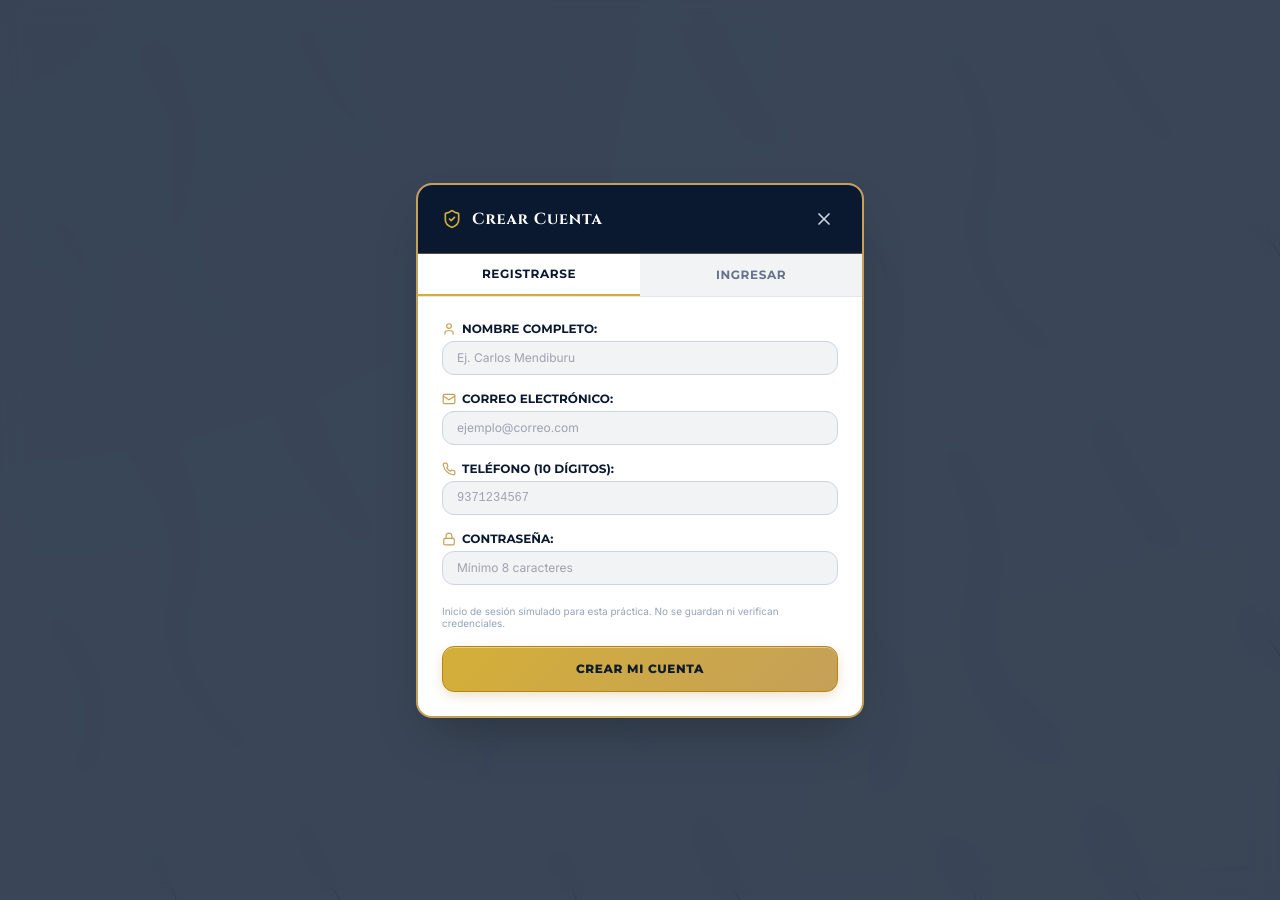
it: AuthModal › asigna el rol admin al correo autorizado luisa.roman@admin.sublimacionesroman.com
Click the button "Ingresar" at (751, 274), box 640,254 -> 862,296
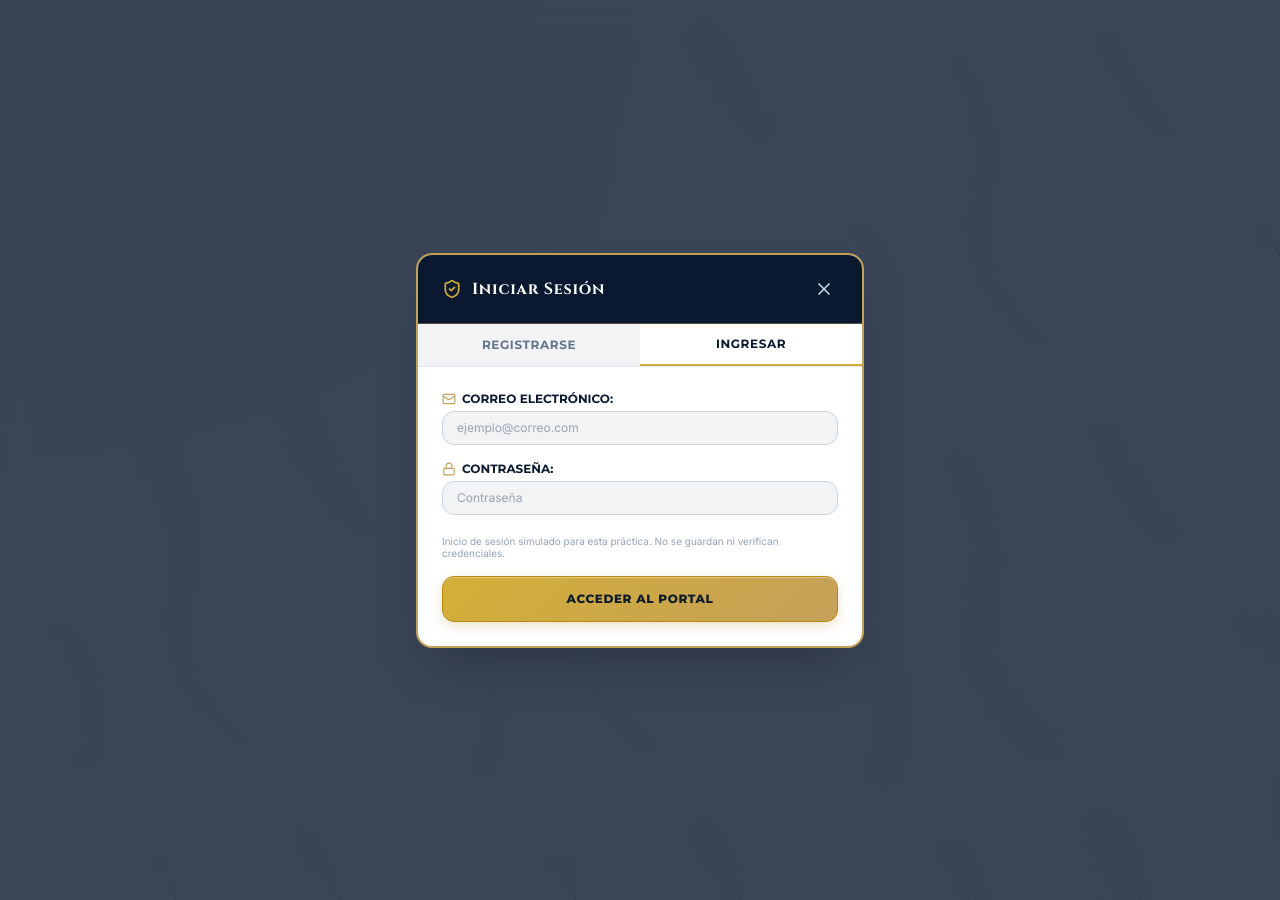
Type "luisa.roman@admin.sublimacionesroman.com" into the field with placeholder "ejemplo@correo.com" at (640, 428), box 442,410 -> 838,444
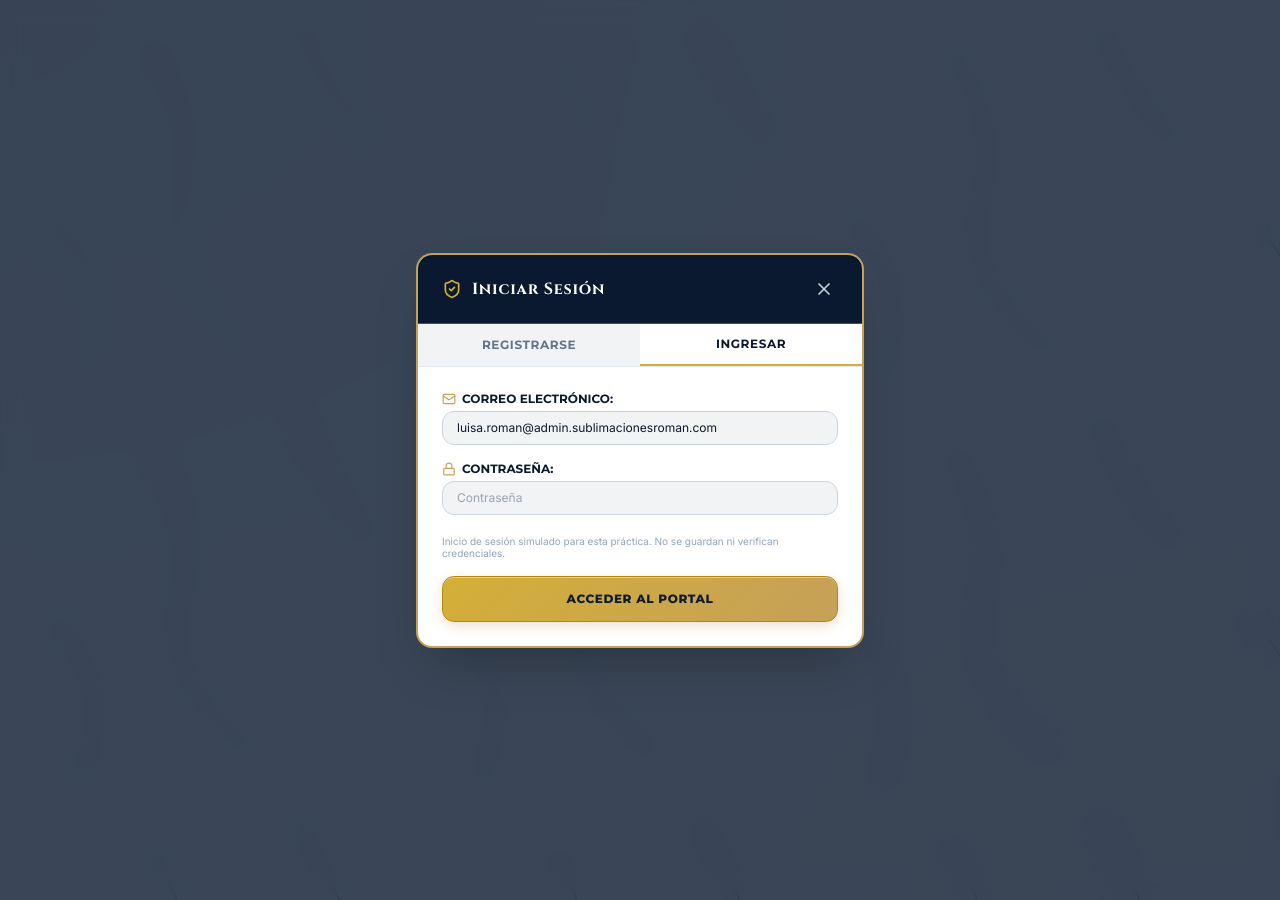
Type "clave-de-prueba" into the password field with placeholder "Contraseña" at (640, 498), box 442,480 -> 838,514
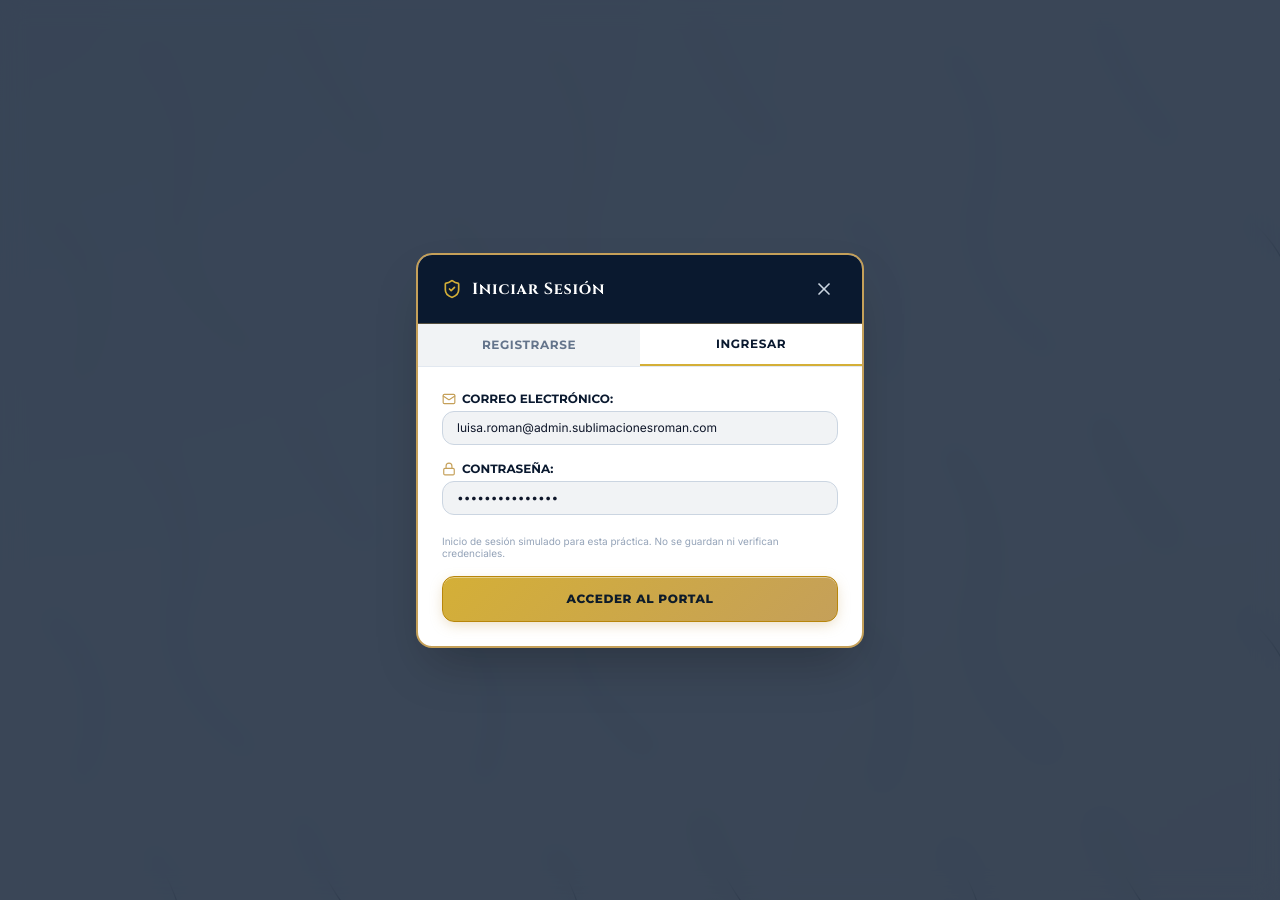
Click the button "Acceder al Portal" at (640, 598), box 442,576 -> 838,622
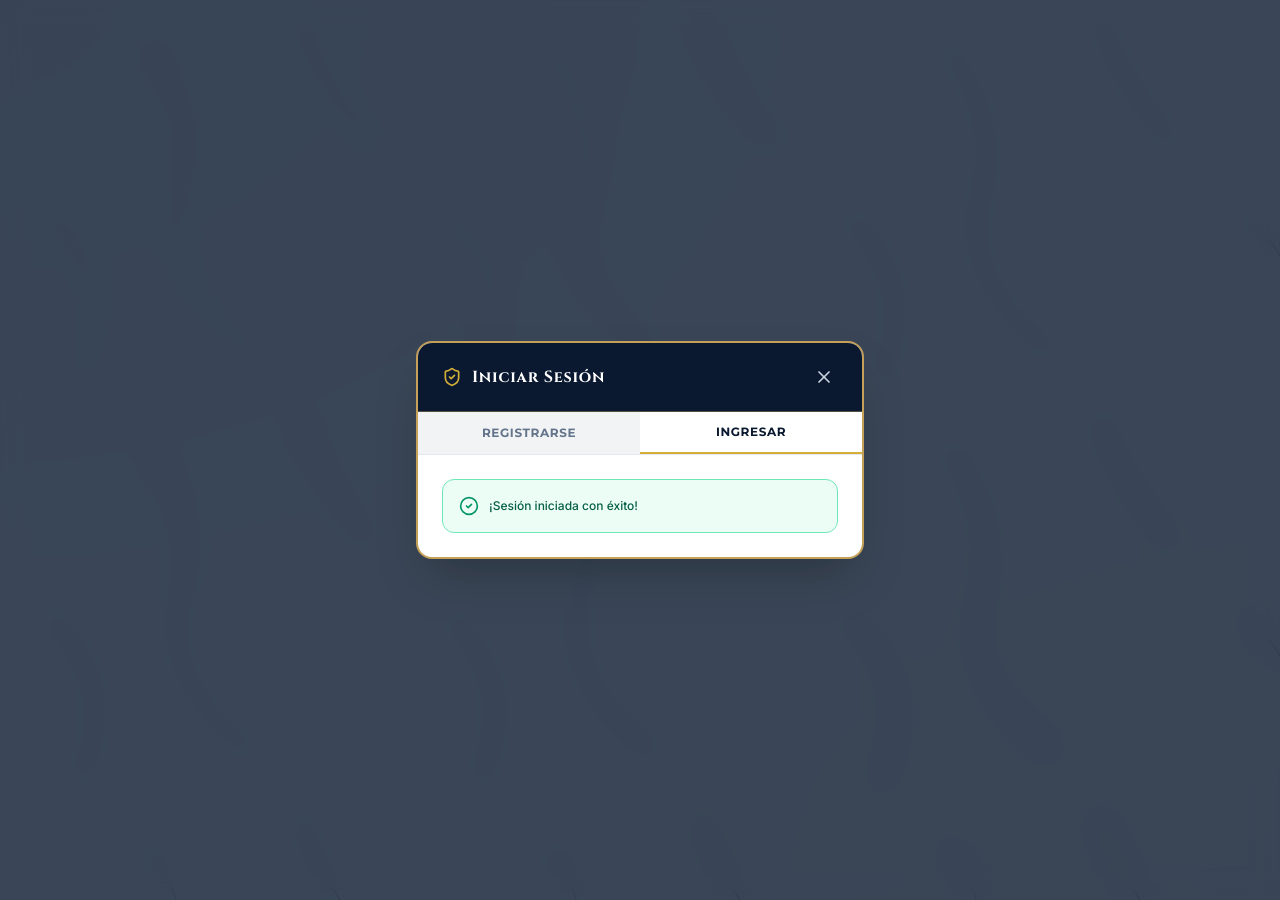
Check: the text "¡Sesión iniciada con éxito!" is shown, box 489,498 -> 638,514
